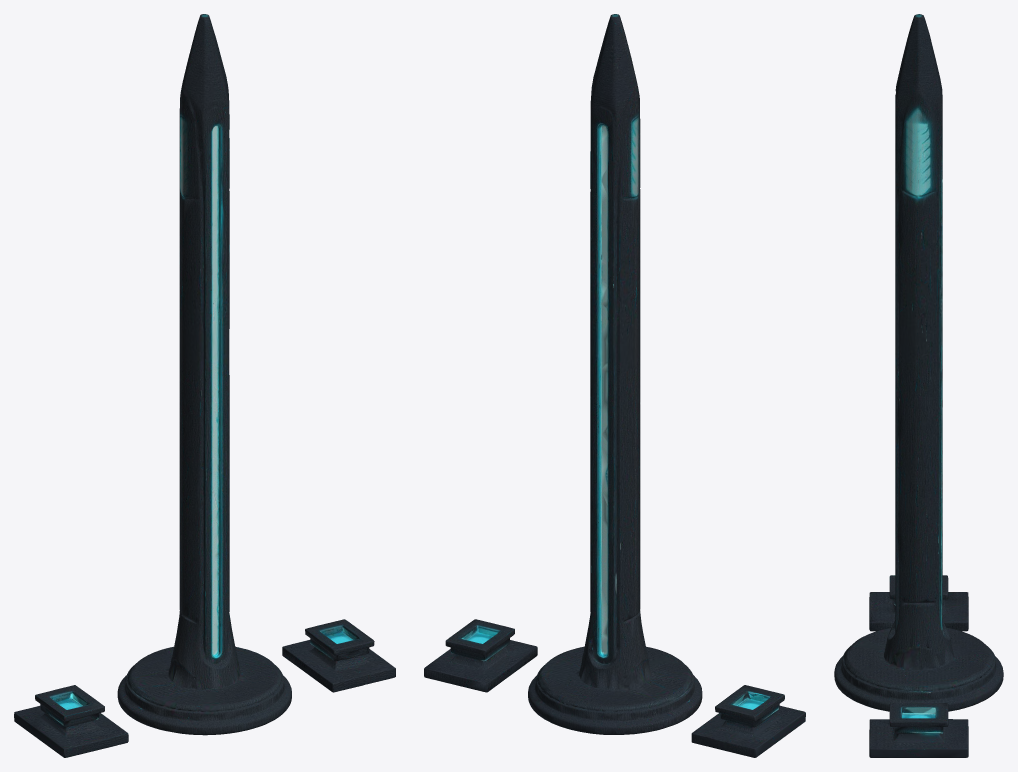
The model's file is pylon.glb.
3 views of the same model, side by side, from view 1: azimuth 30°, elevation 25°; view 2: azimuth 150°, elevation 25°; view 3: azimuth 270°, elevation 25° (orthographic). The views are drawn at different scales.
Bounding box in the file's own units: 0.9672 × 1.9 × 0.4396.
1 material, 1 textured.
